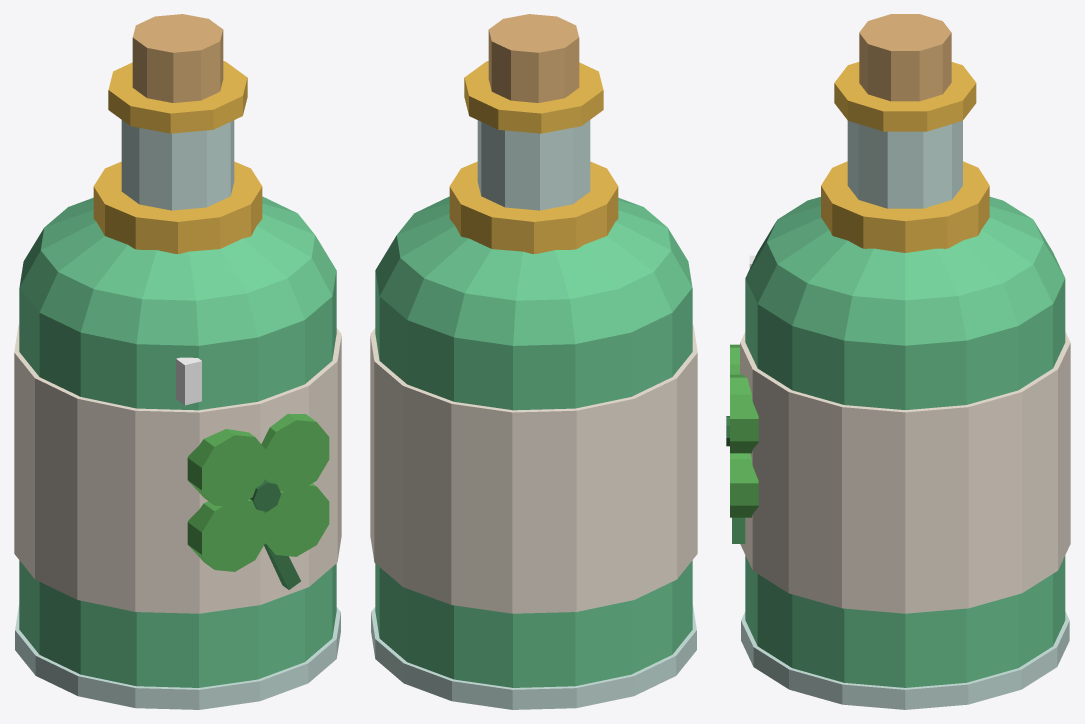
The model's file is CatCafe_Prop_Potion_BigLucky.glb.
3 renders of one model, left to right at view 1: azimuth 30°, elevation 25°; view 2: azimuth 150°, elevation 25°; view 3: azimuth 270°, elevation 25°, orthographic.
Parts seen in each view (by area): view 1: CatCafe_Prop_Potion_BigLucky; view 2: CatCafe_Prop_Potion_BigLucky; view 3: CatCafe_Prop_Potion_BigLucky.
Boxes of the visible parts, x1=… form: CatCafe_Prop_Potion_BigLucky: x1=14, y1=14, x2=341, y2=709; CatCafe_Prop_Potion_BigLucky: x1=370, y1=14, x2=697, y2=709; CatCafe_Prop_Potion_BigLucky: x1=726, y1=14, x2=1070, y2=709.
Bounding box in the file's own units: 0.744 × 1.51 × 0.775.
1 material, 1 textured.
